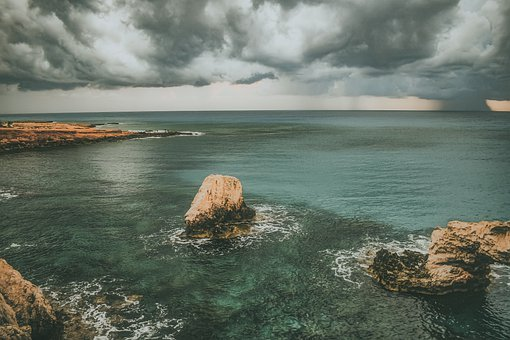sea: (6, 113, 510, 335)
sky: (1, 5, 508, 111)
